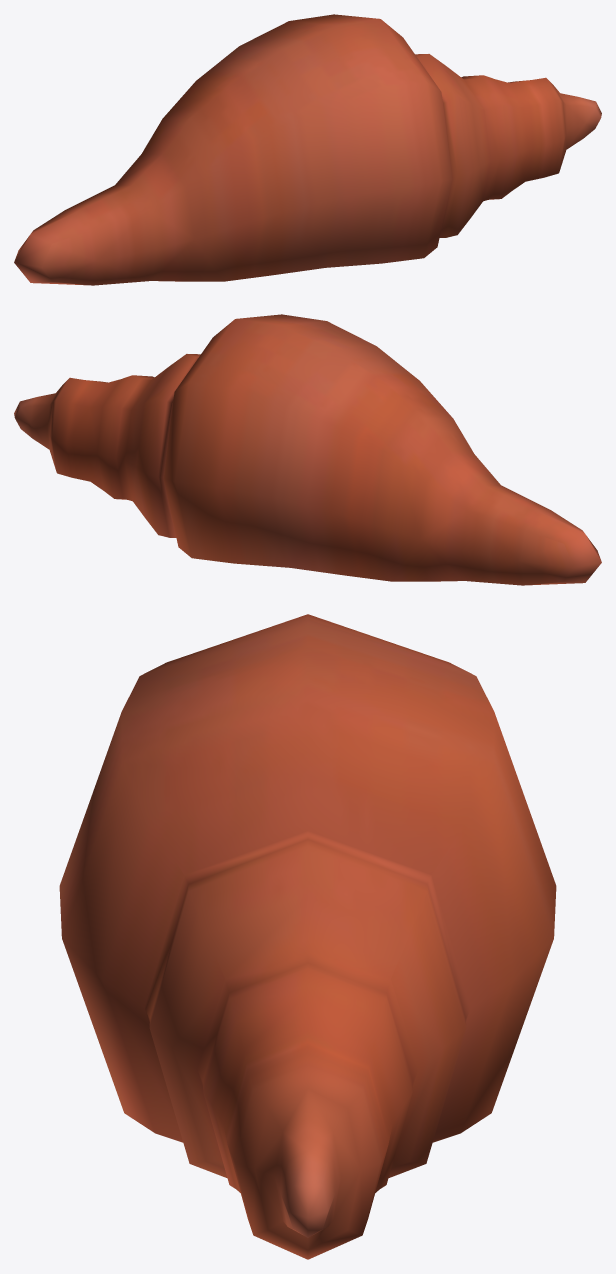
The model's file is Syrinx_Shell.fbx.
The picture shows the model from 3 angles, top to bottom: view 1: azimuth 30°, elevation 25°; view 2: azimuth 150°, elevation 25°; view 3: azimuth 270°, elevation 25°; orthographic projection. The views are drawn at different scales.
Visible parts, largest first — view 1: Shell; view 2: Shell; view 3: Shell.
Boxes of the visible parts, x1,y1,x2,y2 form: Shell: (14, 14, 601, 285); Shell: (14, 314, 601, 585); Shell: (59, 614, 556, 1259).
Bounding box in the file's own units: 1.36 × 0.5248 × 0.4961.
